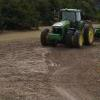Tractor: (36, 1, 95, 55)
